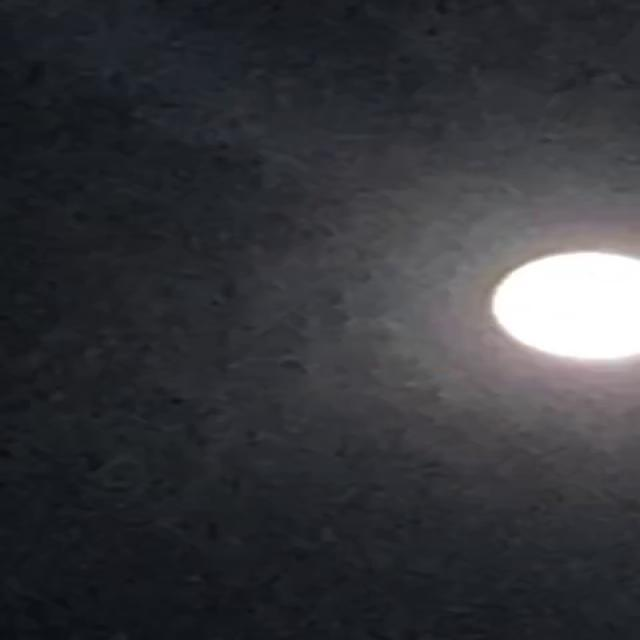moon: (486, 247, 640, 363)
